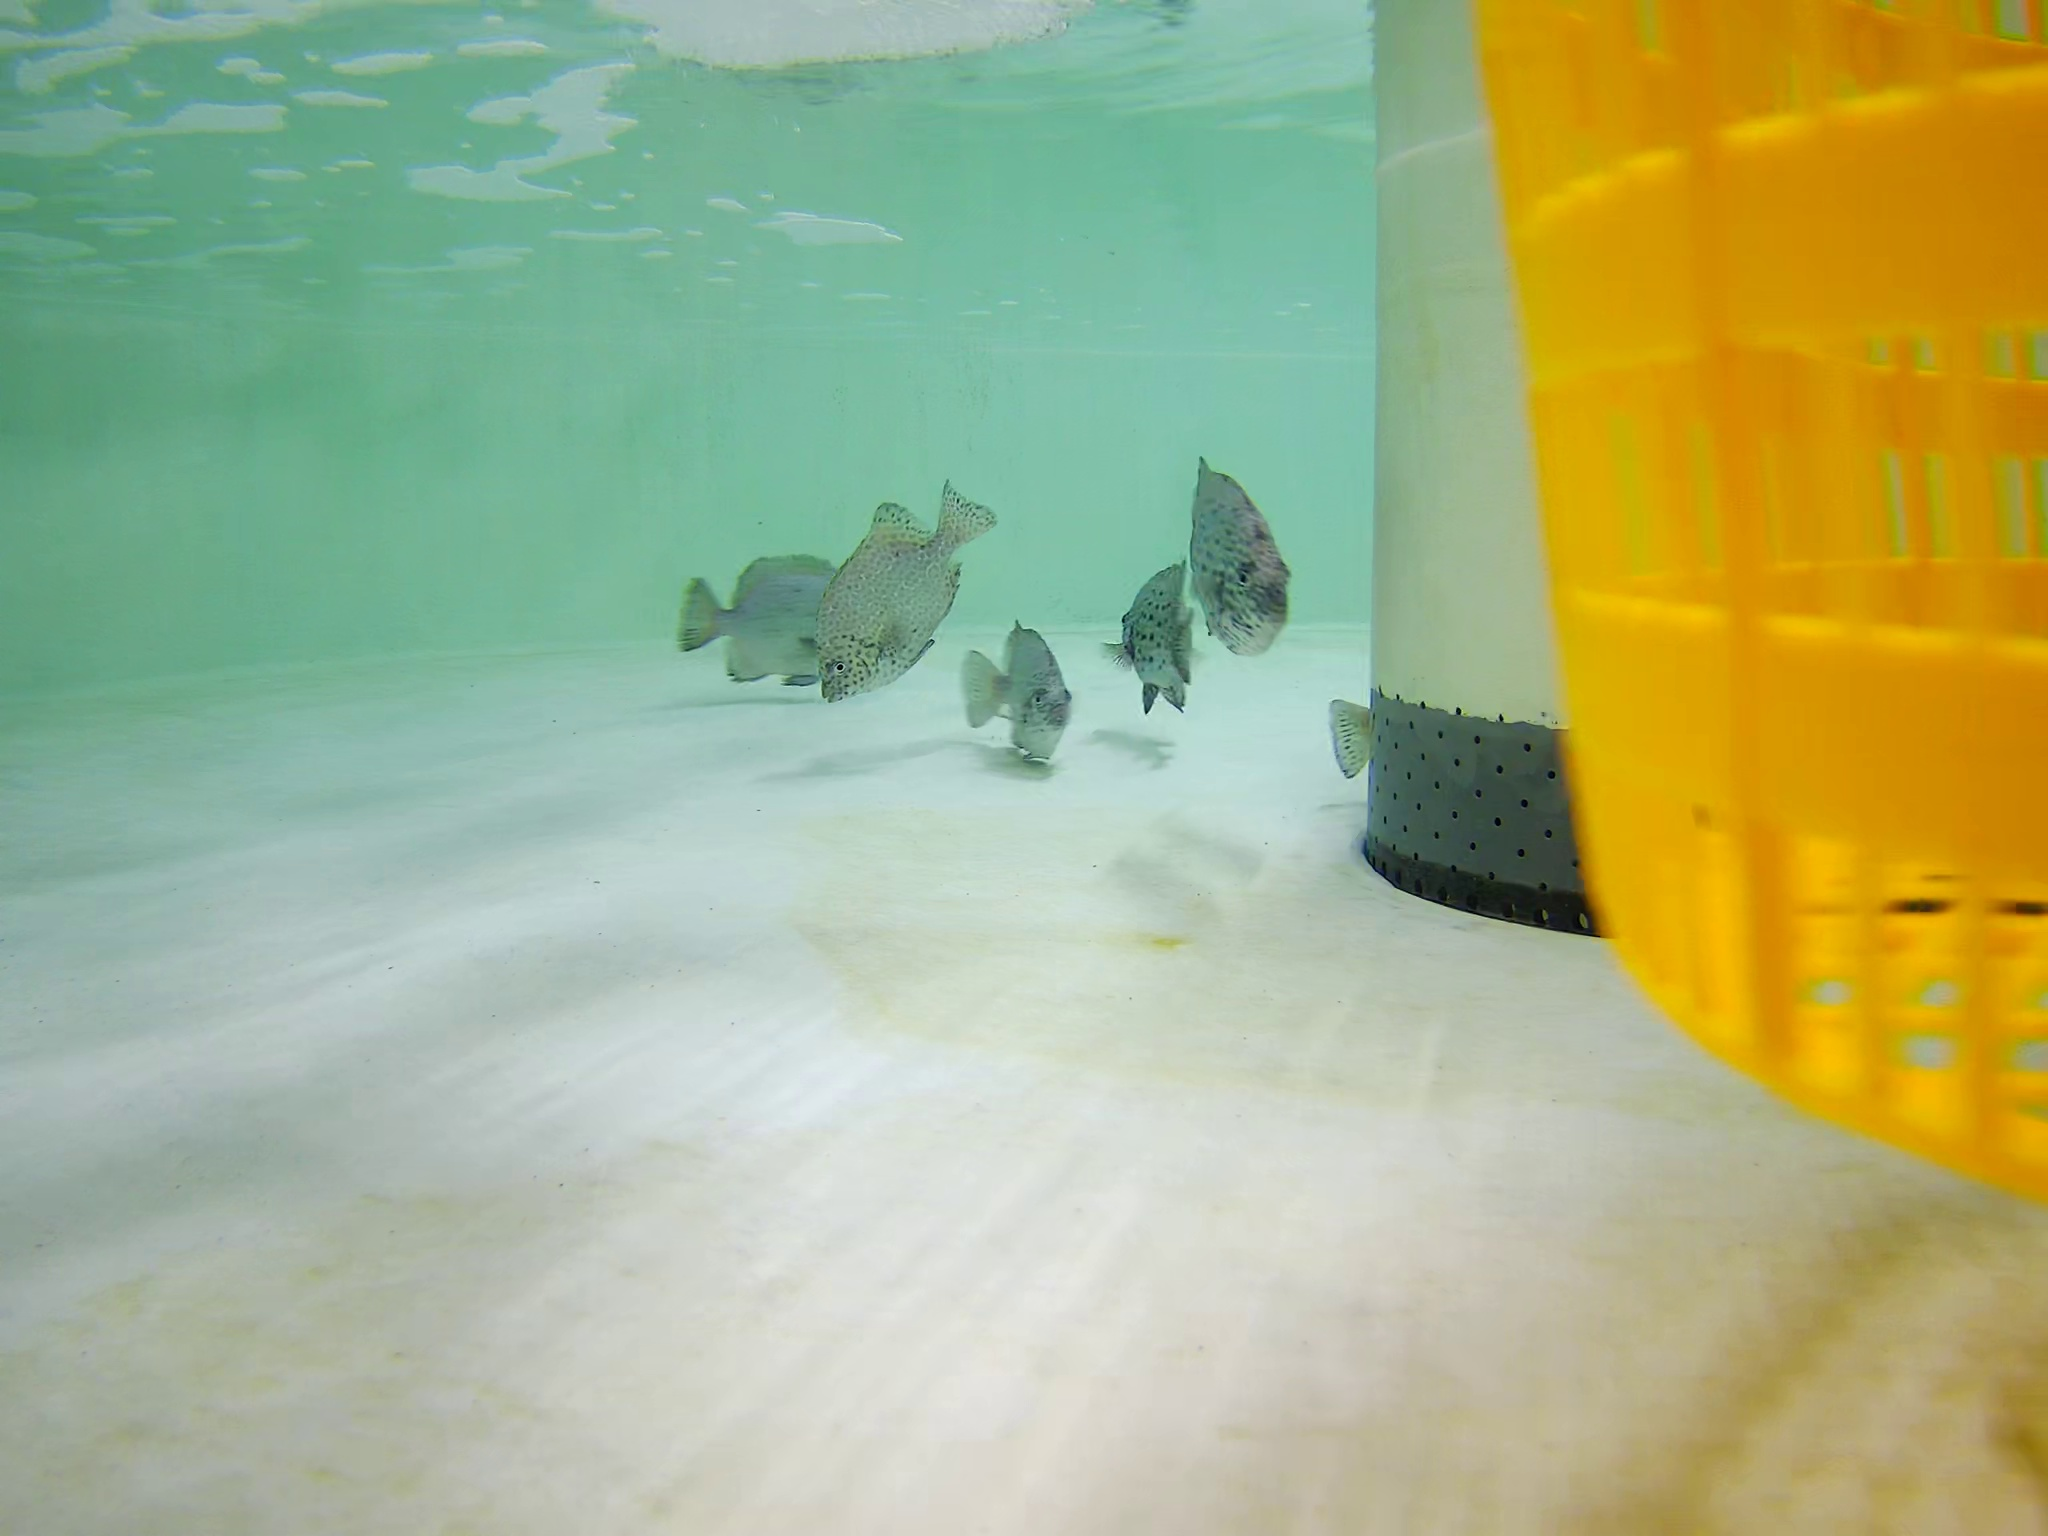fish: (819, 481, 1001, 702), (668, 552, 864, 689), (1185, 465, 1298, 657), (961, 616, 1068, 765), (1114, 557, 1195, 721), (1329, 678, 1366, 770)
